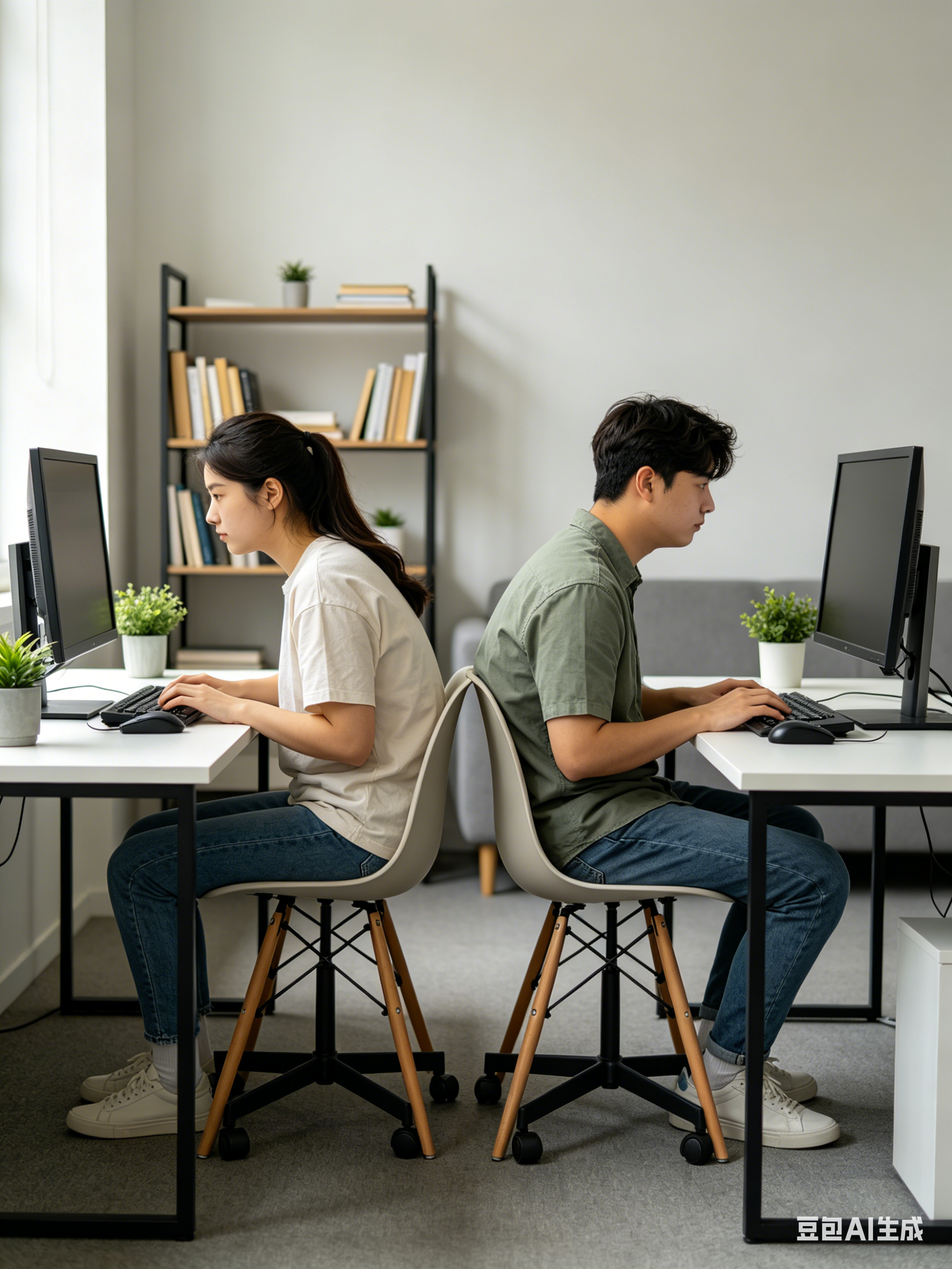sitting_good: (469, 378, 825, 971), (104, 407, 476, 923)
